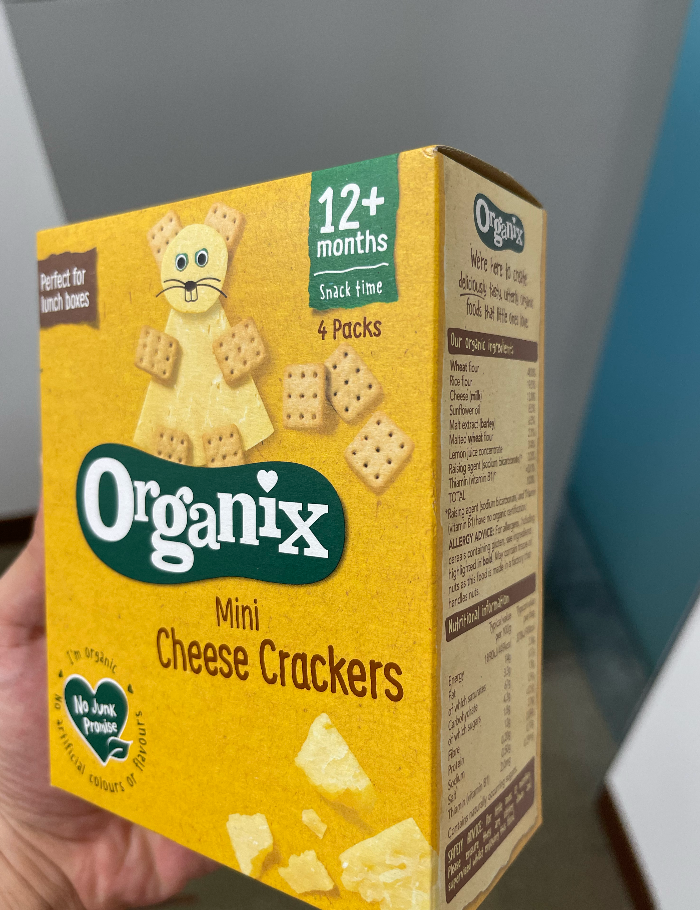crackers_1g-99g: (52, 183, 530, 840)
